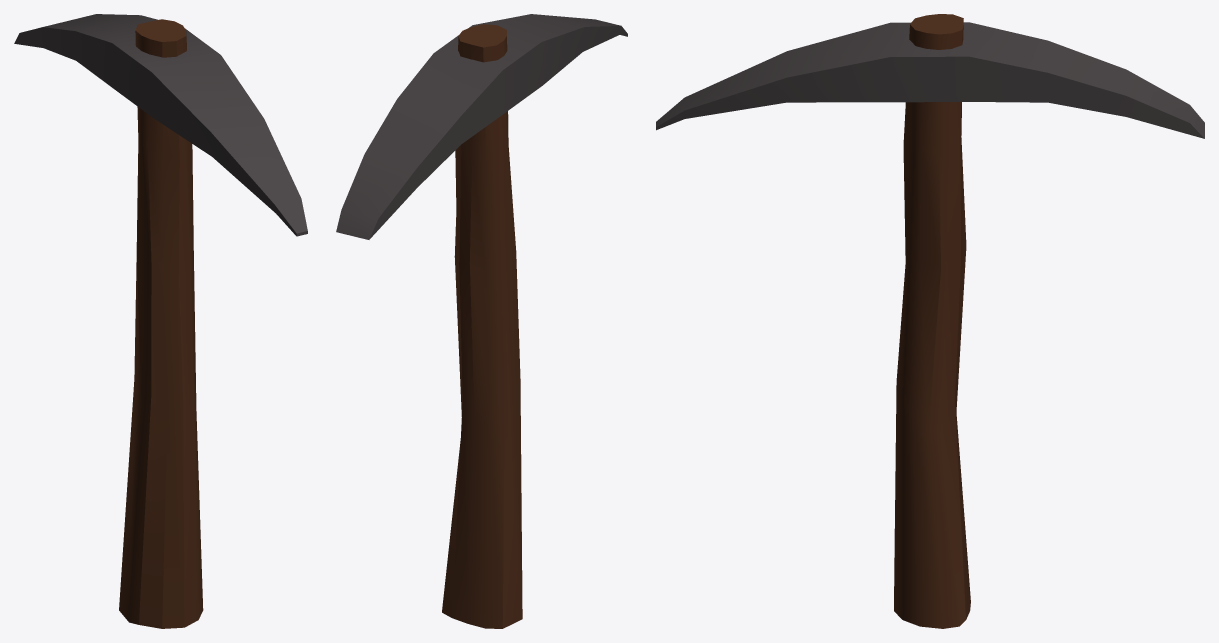
Rendered from pickaxe.fbx.
The picture shows the model from 3 angles, left to right: view 1: azimuth 30°, elevation 25°; view 2: azimuth 150°, elevation 25°; view 3: azimuth 270°, elevation 25°; orthographic projection.
Visible parts, largest first — view 1: Cube.029; view 2: Cube.029; view 3: Cube.029.
Boxes of the visible parts, x1=… form: Cube.029: x1=14, y1=14, x2=307, y2=628; Cube.029: x1=336, y1=14, x2=627, y2=628; Cube.029: x1=656, y1=14, x2=1204, y2=628.
Size of the model in its own units: 20.22 by 154 by 131.
